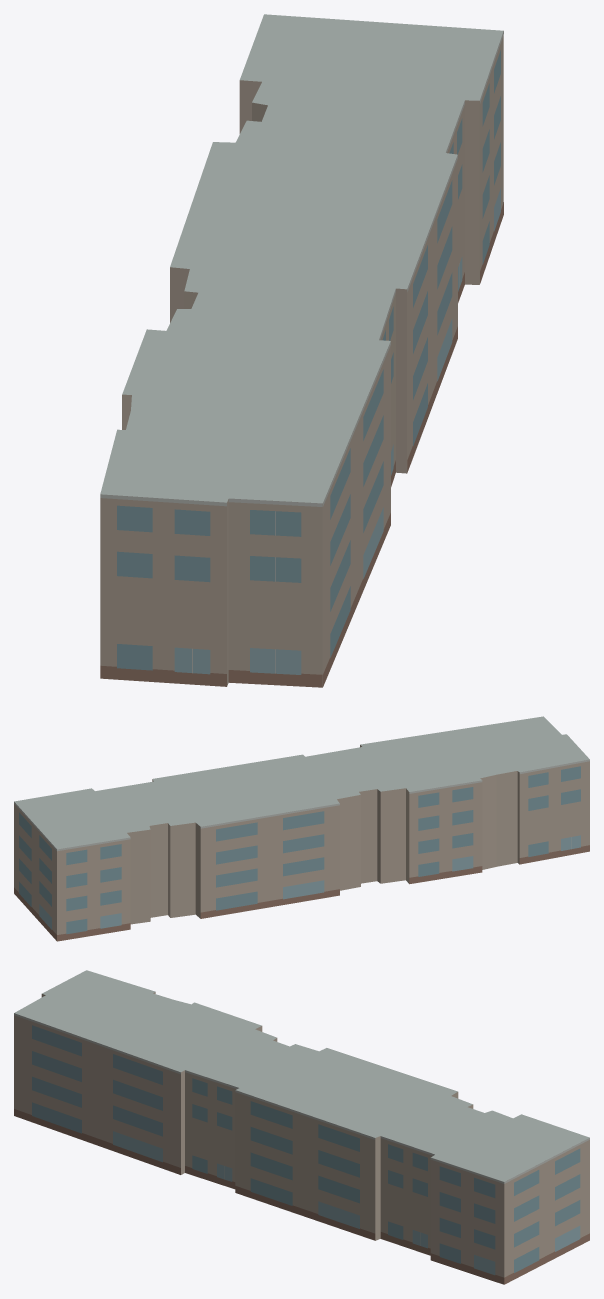
File: survey-upis-32634934.glb
The picture shows the model from 3 angles, top to bottom: view 1: azimuth 30°, elevation 25°; view 2: azimuth 150°, elevation 25°; view 3: azimuth 270°, elevation 25°; orthographic projection. The views are drawn at different scales.
Parts seen in each view (by area): view 1: survey-upis-32634934.tmp; view 2: survey-upis-32634934.tmp; view 3: survey-upis-32634934.tmp.
Part boxes in pixels (left/top/right/bottom): survey-upis-32634934.tmp: left=100, top=14, right=503, bottom=687; survey-upis-32634934.tmp: left=14, top=716, right=589, bottom=941; survey-upis-32634934.tmp: left=14, top=970, right=589, bottom=1284.
Size of the model in its own units: 53.9 by 12.2 by 61.93.
